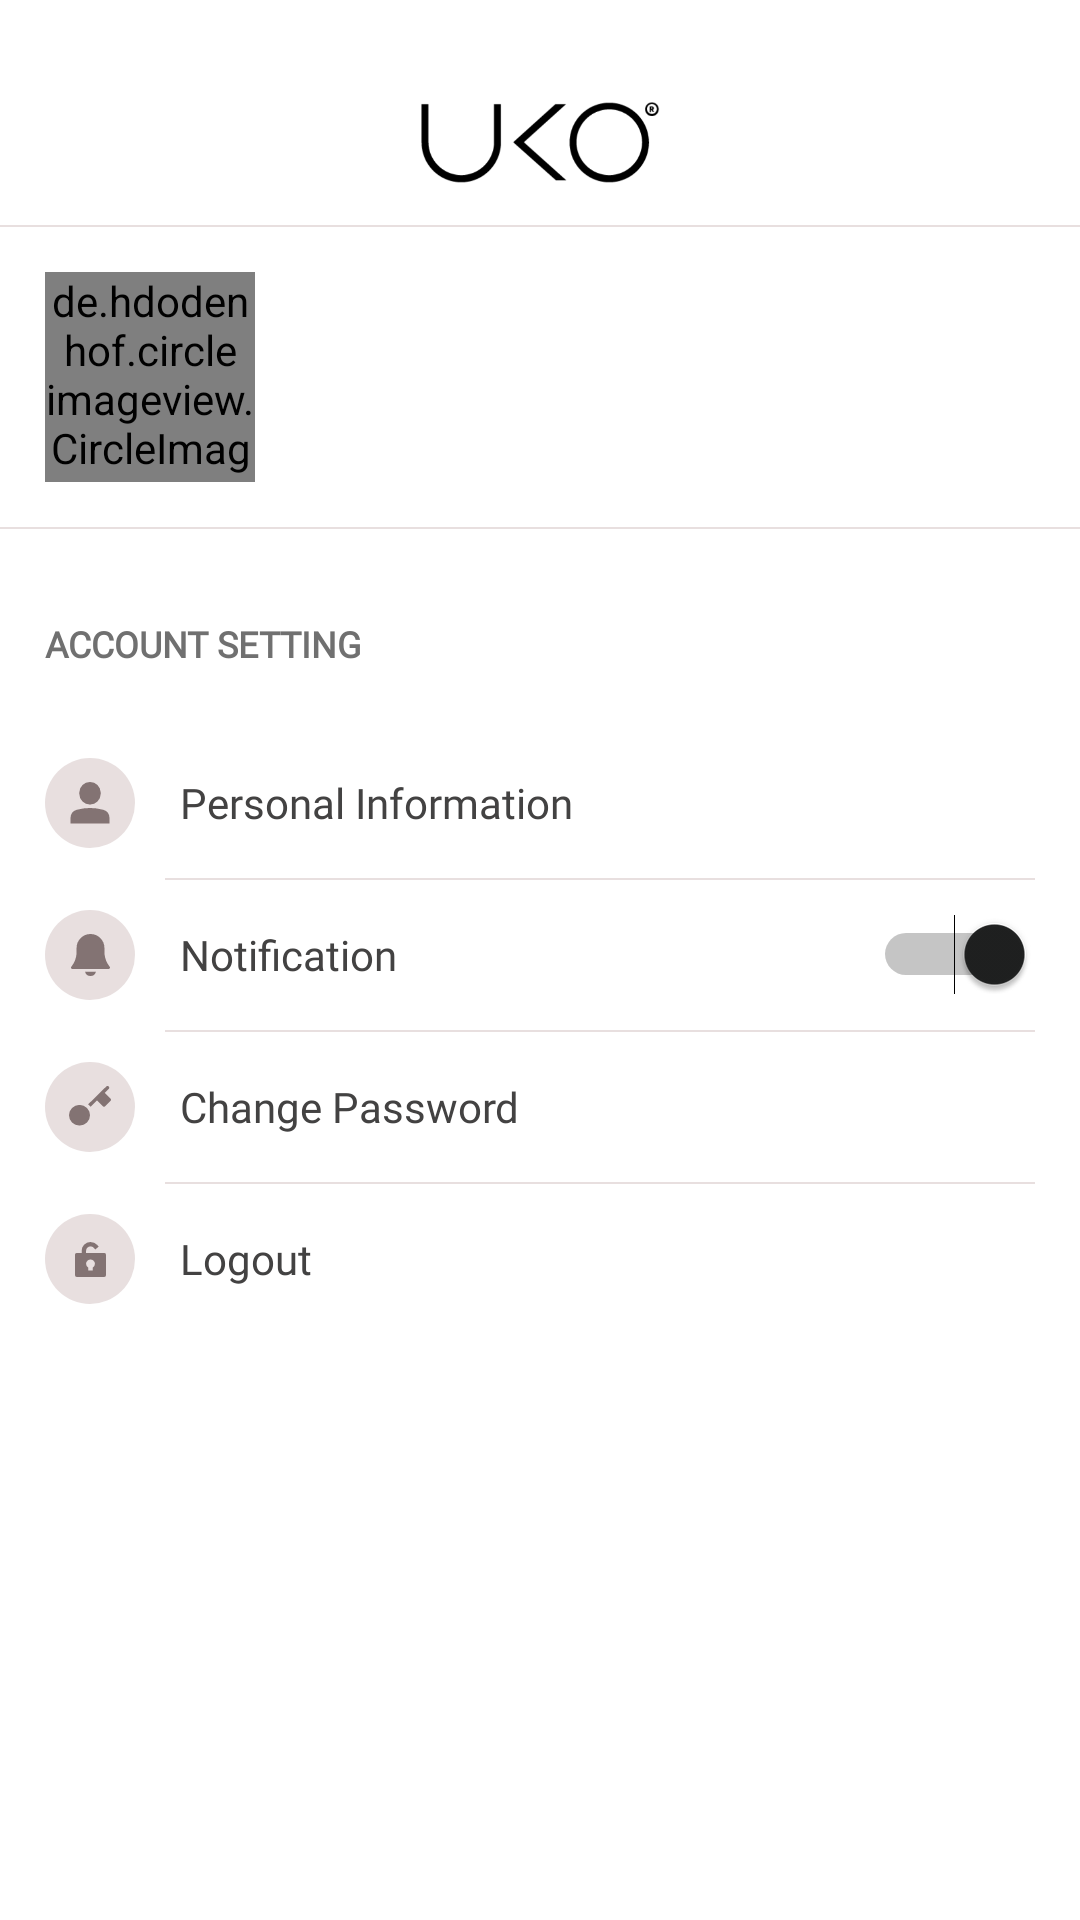

Where icons sit on this 1080px×1920px app screen, as (x1, y1, x2, y2):
lock profile: (45, 1214, 135, 1304)
noti profile: (45, 910, 135, 1000)
password profile: (45, 1062, 135, 1152)
user profile: (45, 758, 135, 848)
